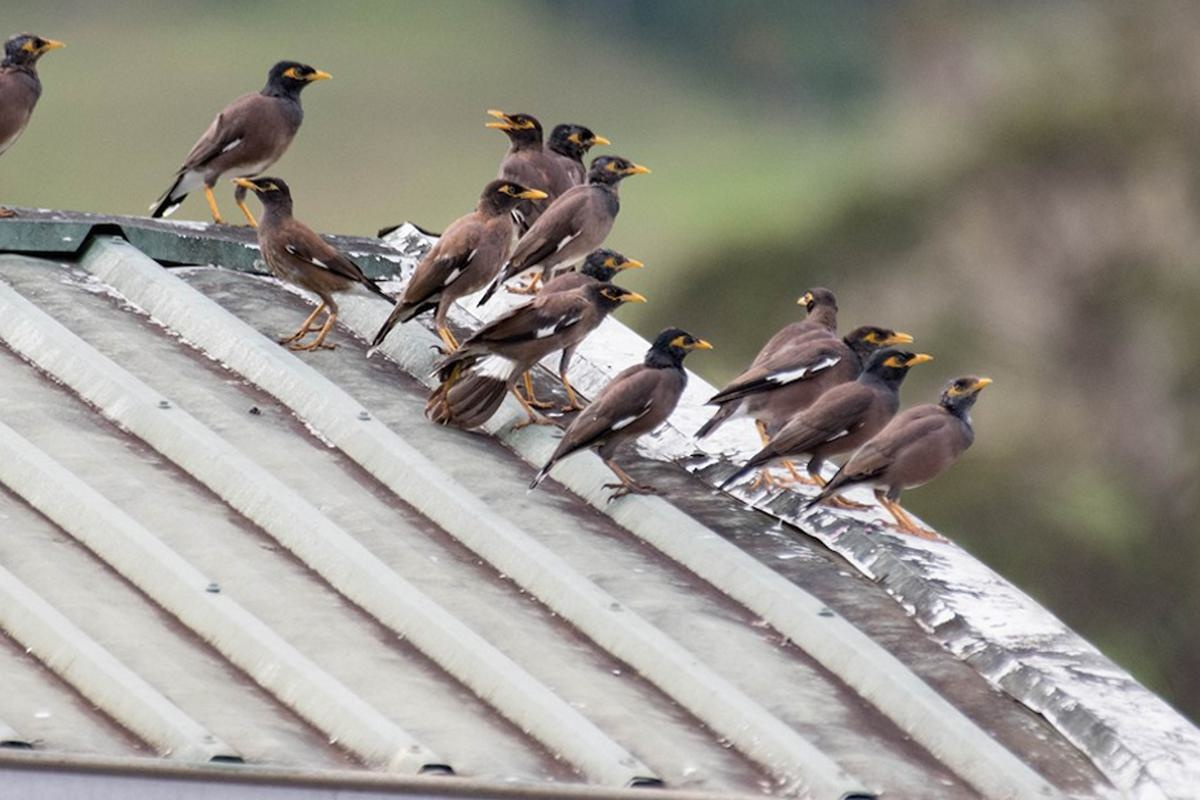myna: (830, 364, 1024, 525), (227, 168, 383, 351), (169, 63, 357, 212), (575, 314, 715, 474), (401, 178, 547, 324), (779, 341, 940, 471), (474, 278, 654, 390), (526, 143, 666, 266), (1, 35, 103, 164), (474, 93, 565, 204), (543, 250, 666, 295), (788, 273, 866, 331), (553, 108, 629, 165)
